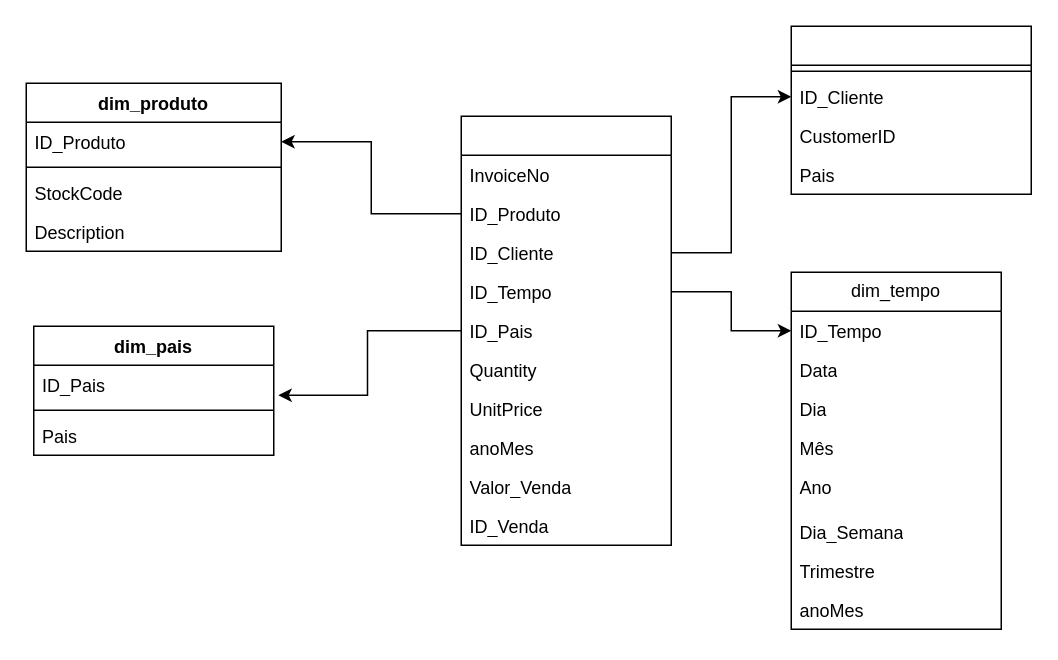
The diagram is 1058 pixels wide and 660 high, and some of its shapes have lost their labels. The shapes that lost their labels are listed below. From the top down, each one's box as (x1, y1, x2, y2) in pixels, then its label:
(790, 25, 1031, 194): dim_cliente
(460, 115, 671, 545): fato_vendas
